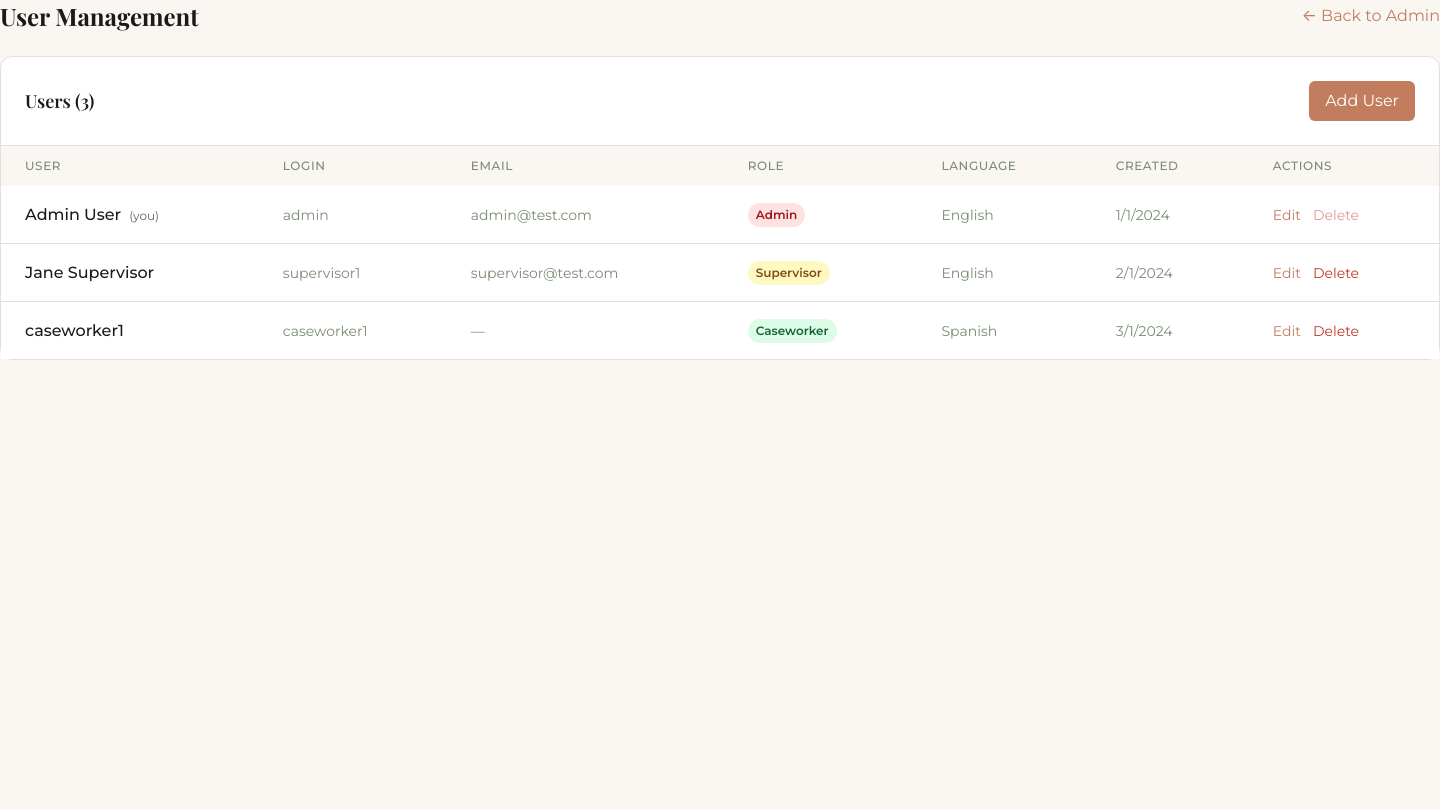
AdminUsersPage › should delete a user through the confirm dialog
Expected: the heading "Users (3)" is shown, x1=25 y1=87 x2=94 y2=115
Step 1. Click the button "Delete" in the row of "Jane Supervisor" → x=1336, y=272, box x1=1313 y1=262 x2=1359 y2=282
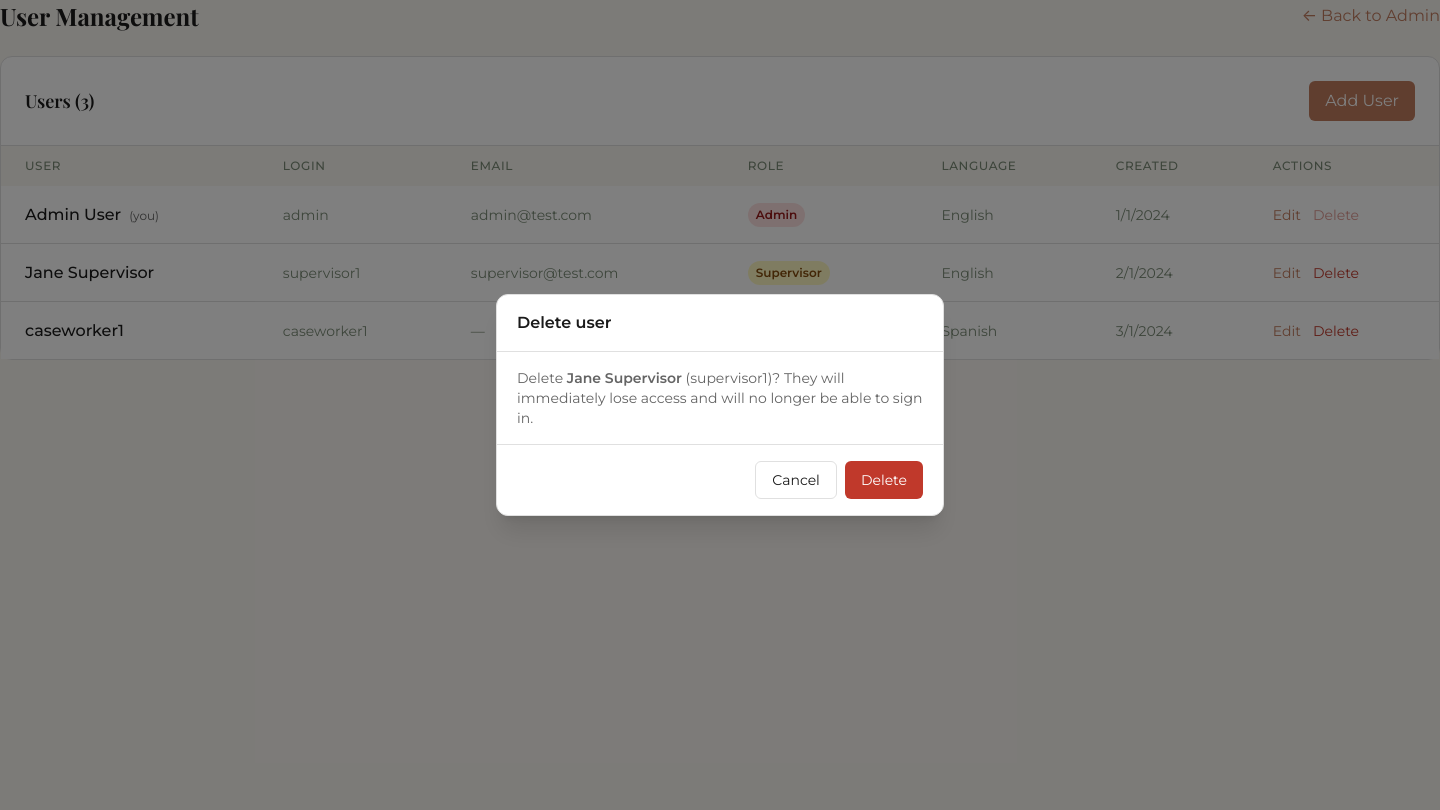
Expected: the heading "Delete user" is shown, x1=517 y1=313 x2=611 y2=332
Expected: the text "Jane Supervisor" is shown, x1=567 y1=369 x2=682 y2=387
Step 2. Click the button "Delete" → x=884, y=480, box x1=845 y1=461 x2=923 y2=499
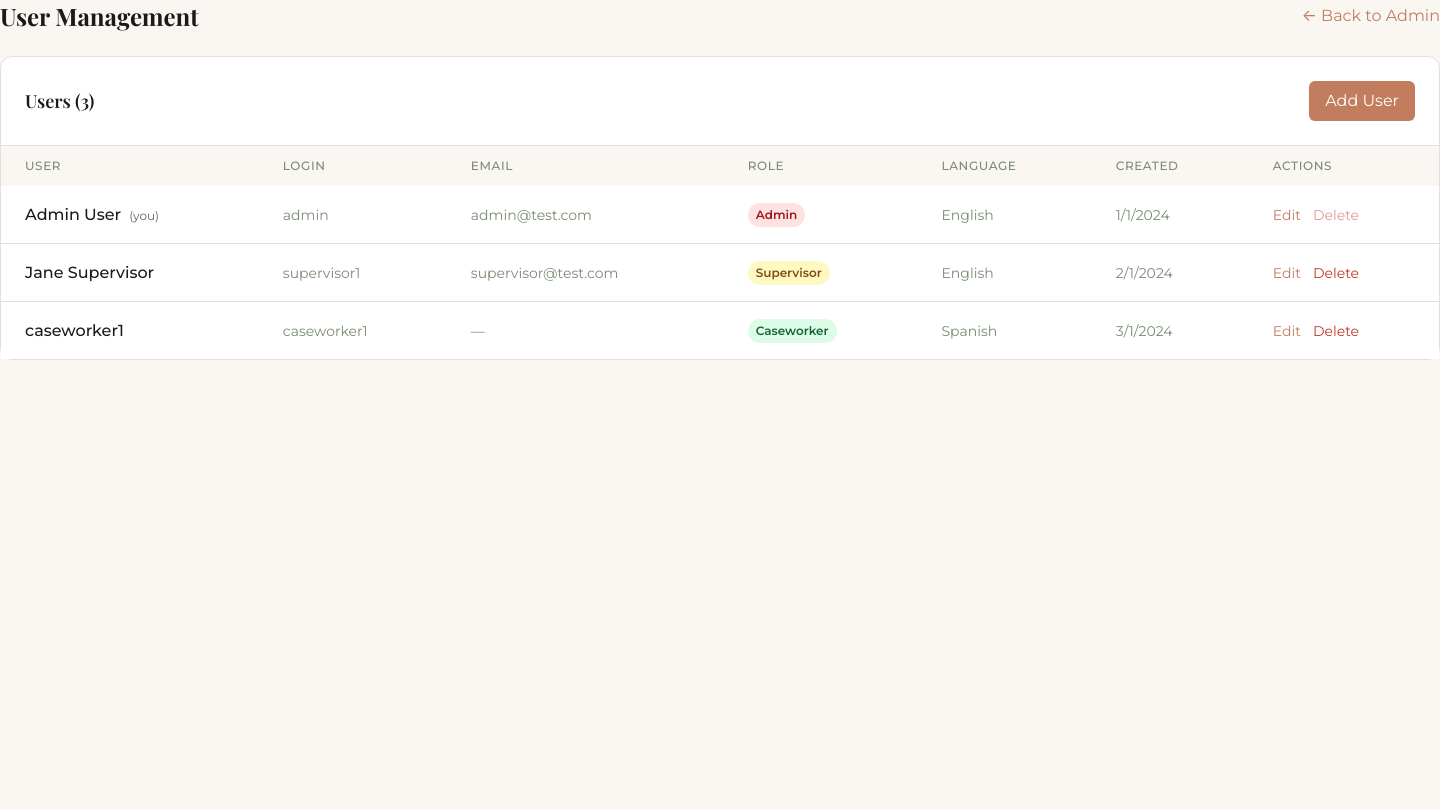
Expected: the dialog is gone
